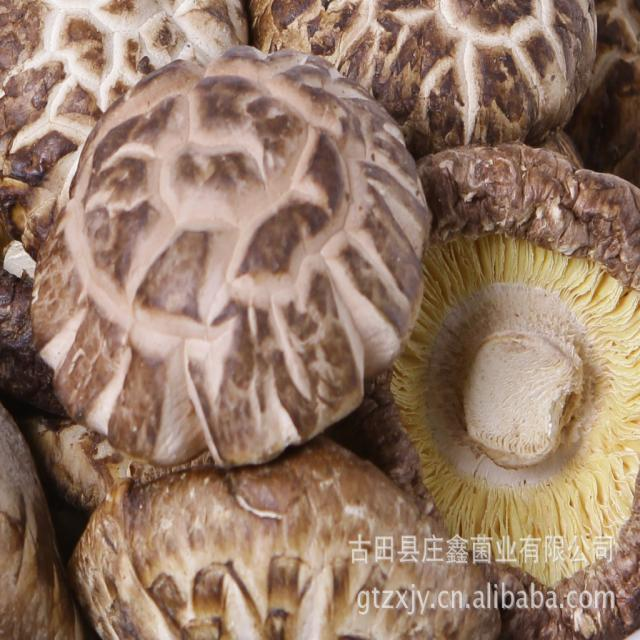Lentinus edodes: (30, 46, 433, 465), (376, 139, 640, 640), (73, 447, 498, 640)
